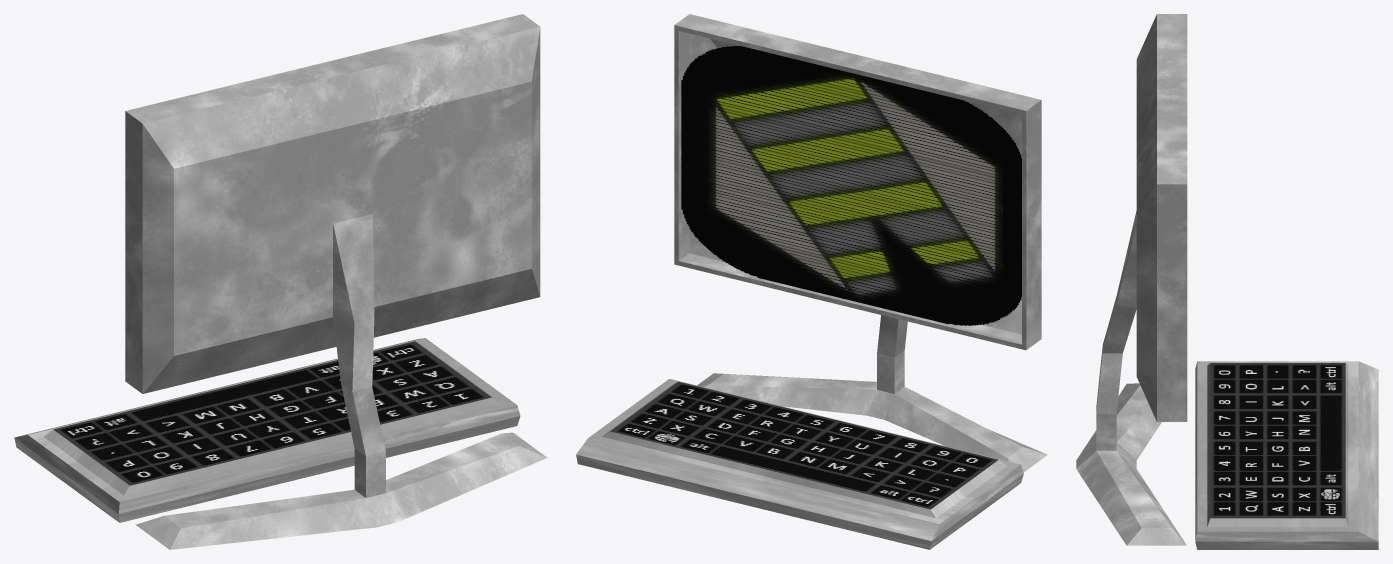
Rendered from Computer.fbx.
3 views of the same model, side by side, from view 1: azimuth 30°, elevation 25°; view 2: azimuth 150°, elevation 25°; view 3: azimuth 270°, elevation 25° (orthographic). The views are drawn at different scales.
Parts seen in each view (by area): view 1: Monitor, Keyboard; view 2: Monitor, Keyboard; view 3: Keyboard, Monitor.
Part boxes in pixels (<box>): Monitor: <box>125,14,547,549</box>; Keyboard: <box>14,338,520,522</box>; Monitor: <box>674,14,1047,472</box>; Keyboard: <box>576,379,1023,549</box>; Keyboard: <box>1195,361,1378,549</box>; Monitor: <box>1076,14,1187,545</box>.
Bounding box in the file's own units: 202 × 200 × 150.
